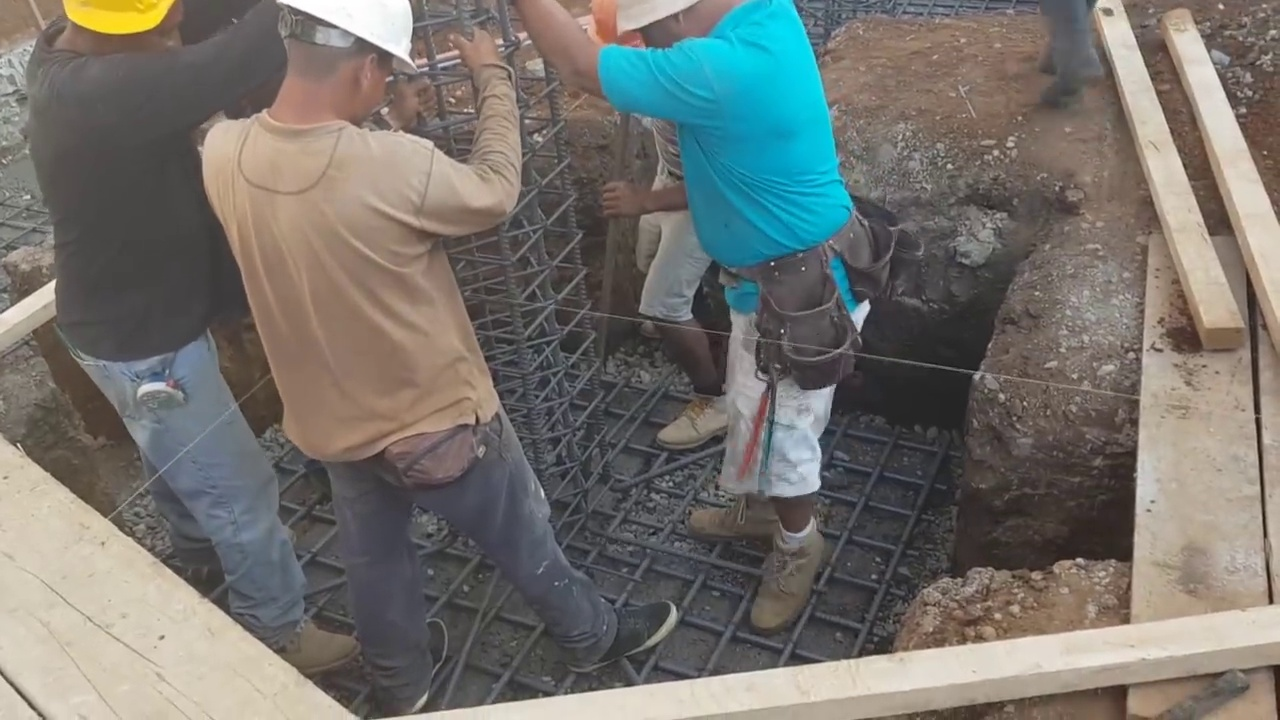helmet: (272, 3, 420, 81)
helmet-off: (613, 2, 741, 54)
helmet-on: (256, 5, 407, 129), (46, 0, 175, 69)
person: (200, 3, 679, 707), (511, 5, 872, 632), (30, 0, 364, 675), (603, 105, 729, 466)
